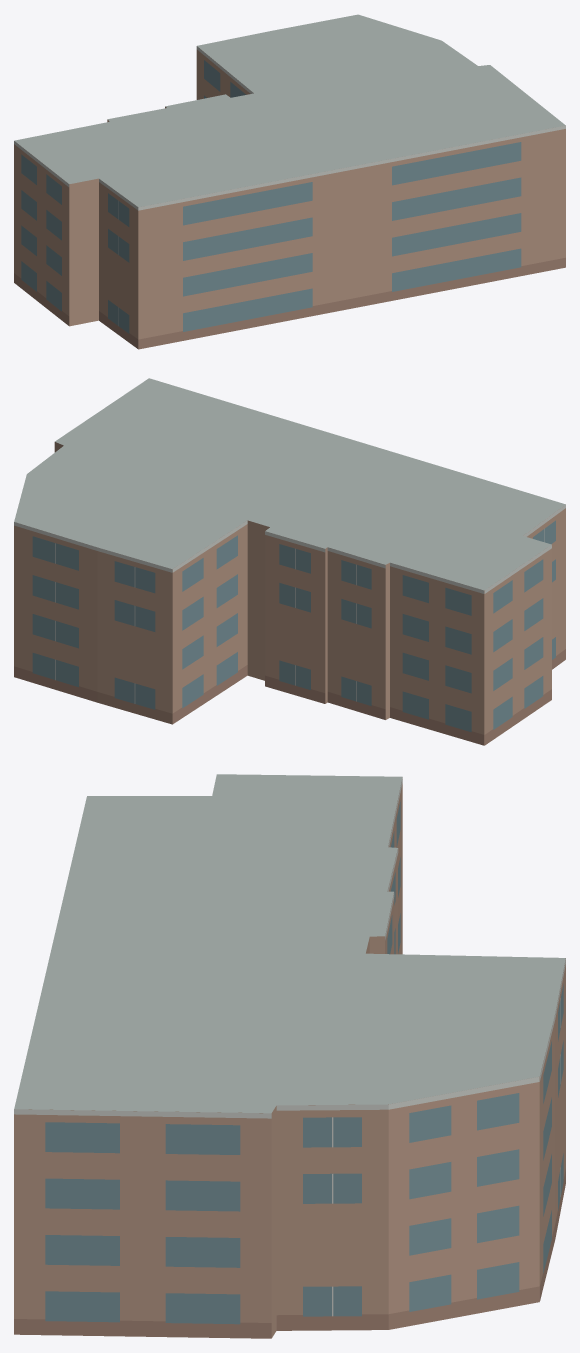
File: survey-upis-32938203.glb
The picture shows the model from 3 angles, top to bottom: view 1: azimuth 30°, elevation 25°; view 2: azimuth 150°, elevation 25°; view 3: azimuth 270°, elevation 25°; orthographic projection. The views are drawn at different scales.
Parts seen in each view (by area): view 1: survey-upis-32938203.tmp; view 2: survey-upis-32938203.tmp; view 3: survey-upis-32938203.tmp.
Boxes of the visible parts, x1,y1,x2,y2 form: survey-upis-32938203.tmp: (14,14,565,349); survey-upis-32938203.tmp: (14,378,565,745); survey-upis-32938203.tmp: (14,774,565,1338).
Bounding box in the file's own units: 33.55 × 10.4 × 23.08.
